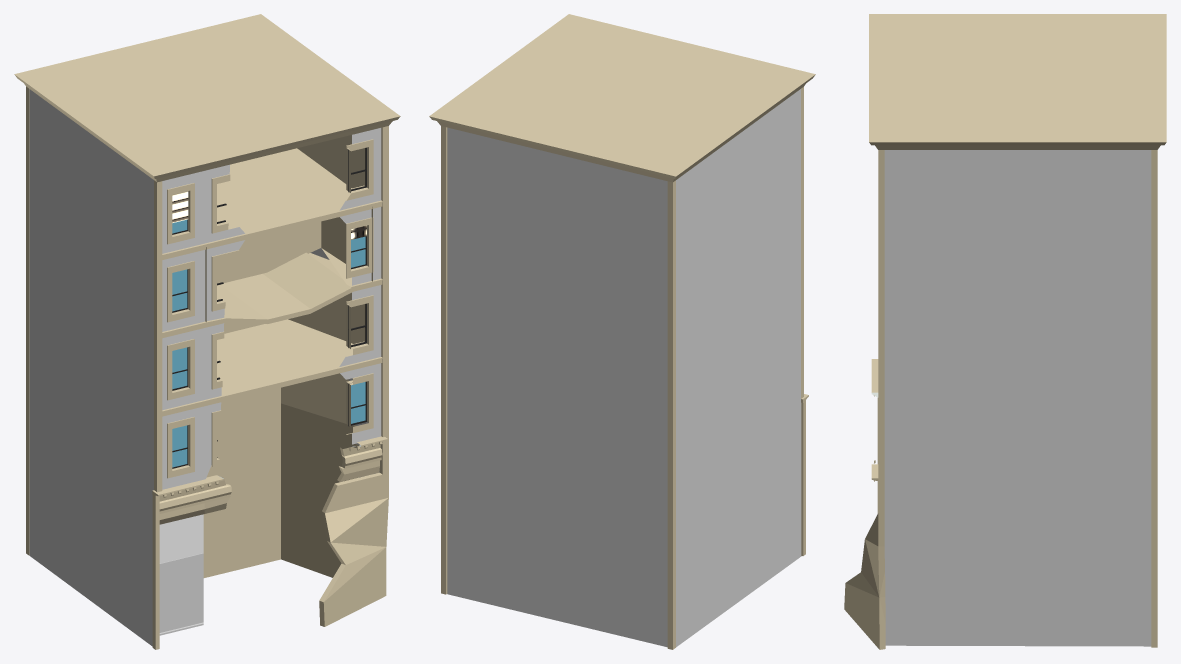
Rendered from BlocDetruit_G.fbx.
3 views of the same model, side by side, from view 1: azimuth 30°, elevation 25°; view 2: azimuth 150°, elevation 25°; view 3: azimuth 270°, elevation 25° (orthographic). The views are drawn at different scales.
Visible parts, largest first — view 1: BlocDetruit_G; view 2: BlocDetruit_G; view 3: BlocDetruit_G.
Part boxes in pixels (x1,y1,x2,y2): BlocDetruit_G: (14, 14, 400, 649); BlocDetruit_G: (429, 14, 815, 649); BlocDetruit_G: (844, 14, 1166, 649).
Bounding box in the file's own units: 1055 × 1869 × 993.
